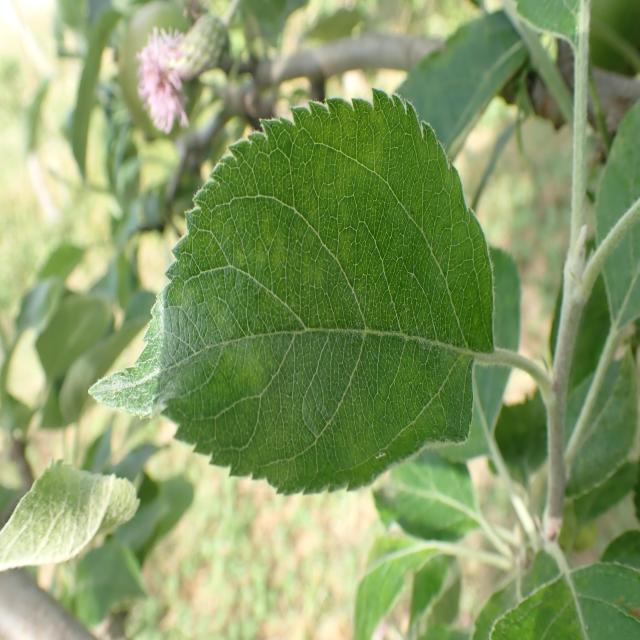healthy: (90, 87, 496, 497), (0, 458, 141, 571), (487, 560, 639, 640)
